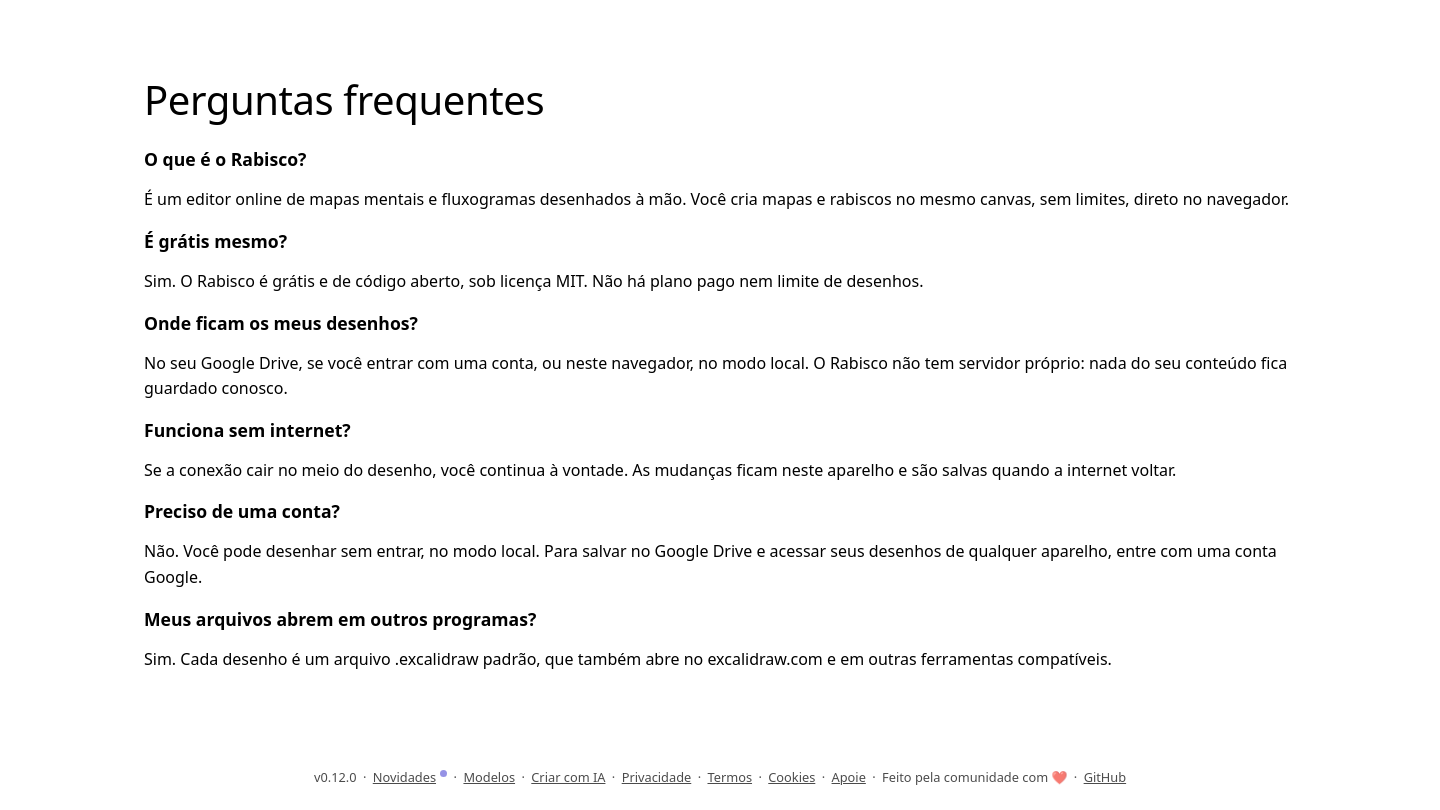
Test: opens from the footer link and shows the entries in Portuguese
The image size is (1440, 810).
(page scrolled)
Click the link with aria-label "Novidades (há novidades)". click: [410, 777]
box: [373,768,447,786]
(page scrolled)
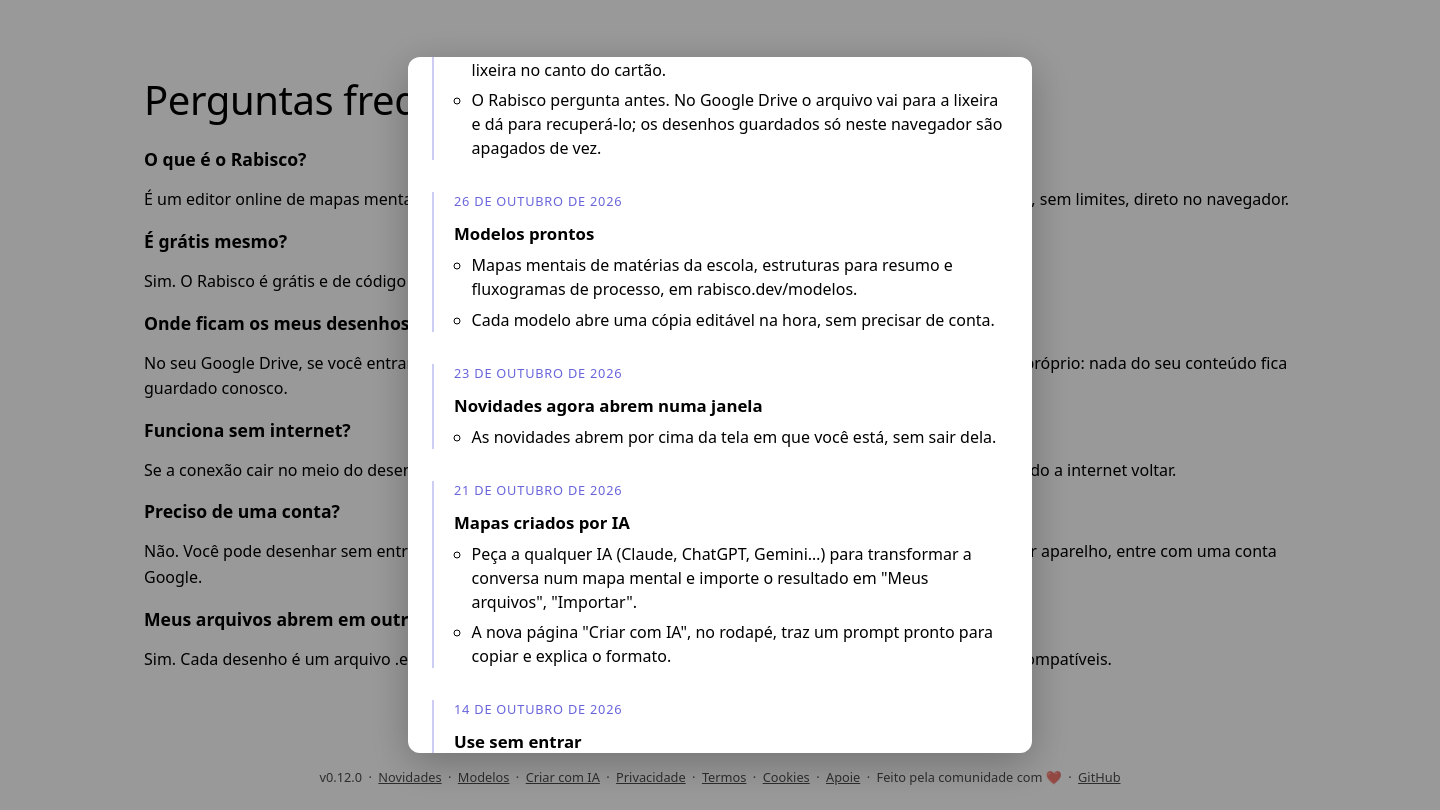
Expected: the dialog "Novidades" is shown, [408,57,1032,753]
Expected: the heading "Novidades agora abrem numa janela" is shown, [454,394,763,417]
